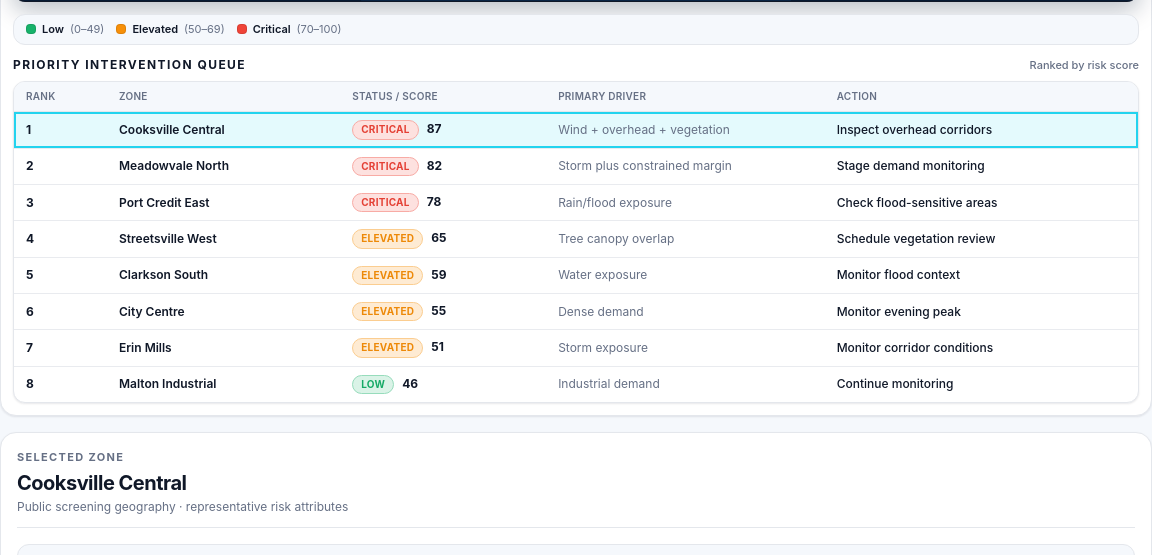
OperationsWorkspace › selects zone from intervention queue row
(page scrolled)
Click the button with aria-label "3. Port Credit East": click(576, 203) x1=14 y1=184 x2=1138 y2=221
(page scrolled)
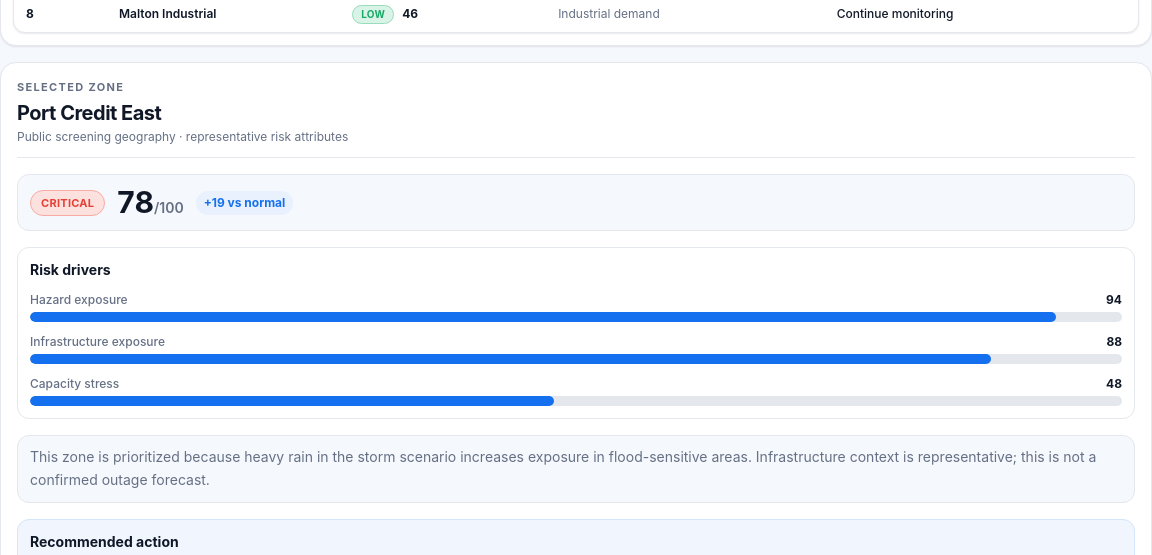
Now the heading "Port Credit East" is shown, box x1=17 y1=102 x2=161 y2=126
Now the text "78" is shown, box x1=117 y1=184 x2=154 y2=220
